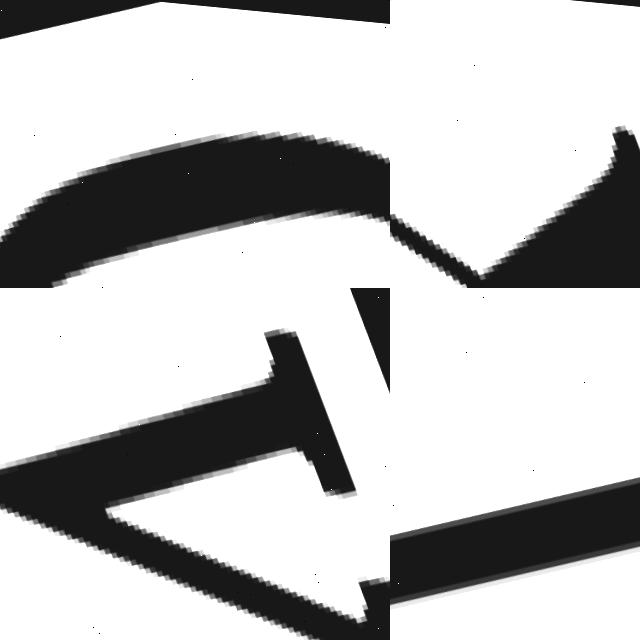0: (0, 25, 390, 288)
L: (390, 349, 640, 640)
X: (390, 0, 640, 288)
Y: (0, 288, 390, 640)
